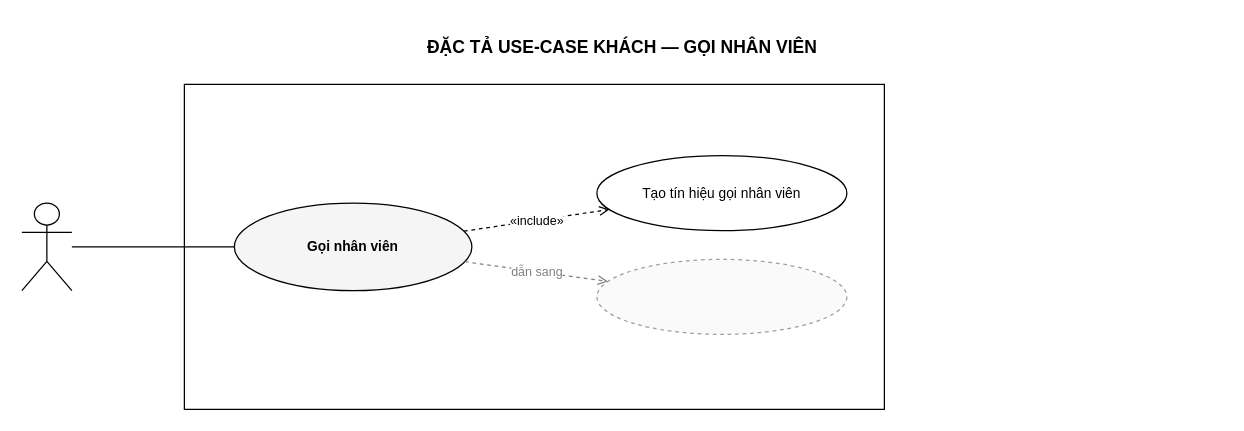
Some shapes in this 1244 by 431 pixel diagram are drawn without their labels. The shapes that lost their labels are listed below. From the top down, each one's centre as x and y in pixels, then its label:
[46,246]: Khách
[721,296]: Xác nhận gọi nhân viên (UC-12)
